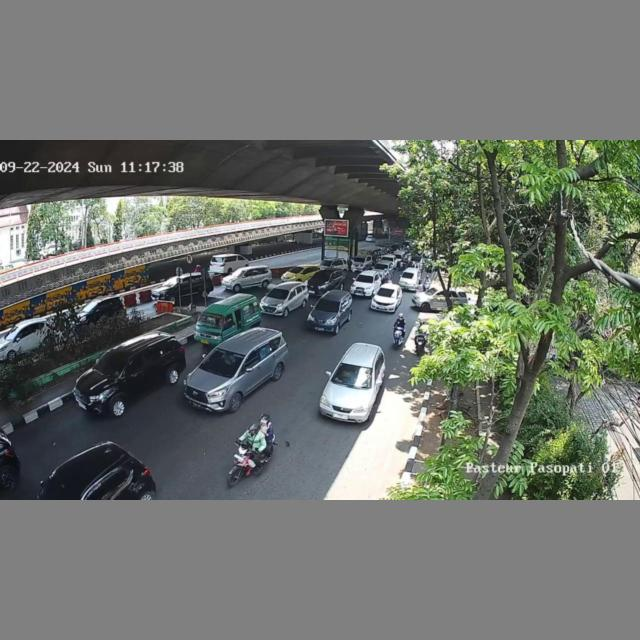windshield: (196, 348, 246, 375), (92, 351, 130, 379), (332, 364, 374, 387), (197, 311, 224, 327), (314, 298, 340, 313), (267, 288, 289, 298), (355, 274, 376, 283), (379, 289, 397, 297)
